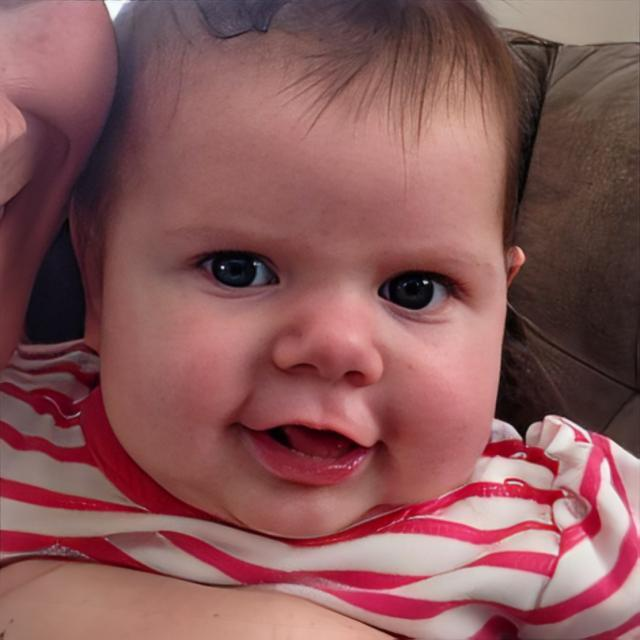surprise: (105, 4, 508, 541)
